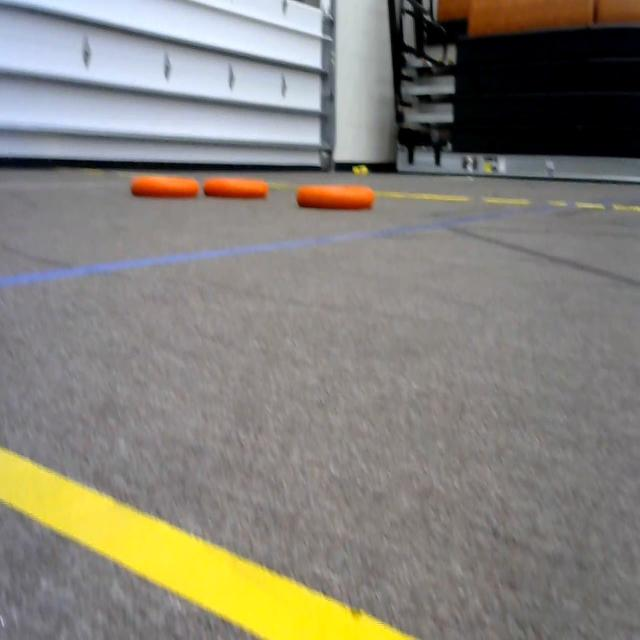note: (199, 162, 278, 208), (292, 173, 374, 217), (127, 163, 200, 207)
